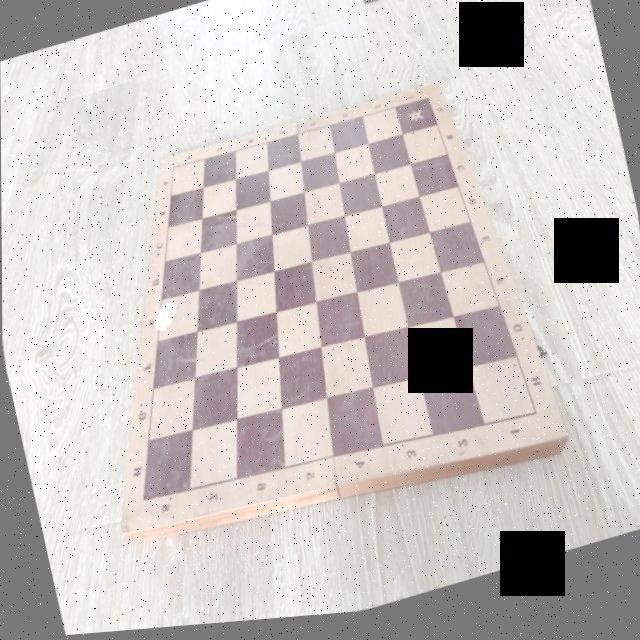chess-table-corners: (131, 488, 155, 514), (526, 410, 542, 432), (168, 162, 180, 177), (424, 98, 434, 111)
